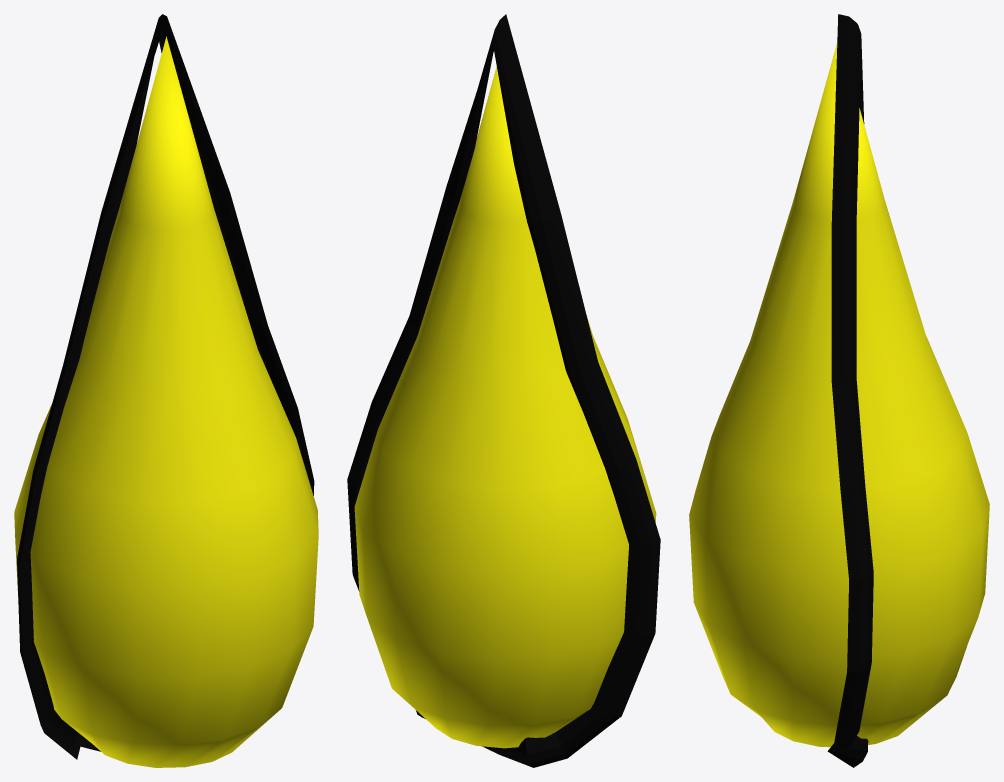
File: Fighter (2) 6.fbx
The picture shows the model from 3 angles, left to right: view 1: azimuth 30°, elevation 25°; view 2: azimuth 150°, elevation 25°; view 3: azimuth 270°, elevation 25°; orthographic projection. The views are drawn at different scales.
Parts seen in each view (by area): view 1: LineArt.006; view 2: LineArt.006; view 3: LineArt.006.
Boxes of the visible parts, x1,y1,x2,y2 form: LineArt.006: (14,14,318,767); LineArt.006: (347,14,660,767); LineArt.006: (689,14,989,767).
Bounding box in the file's own units: 9.68 × 22.87 × 8.46.
